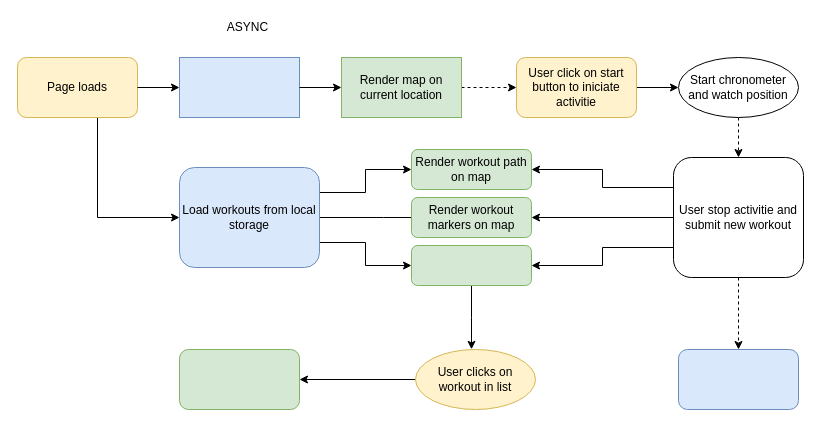
Some shapes in this 821 by 427 pixel diagram are drawn without their labels. The shapes that lost their labels are listed below. From the top down, each one's centre as x and y in pixels, then its label:
point (239, 87): Get current location coordinates
point (471, 265): Render workout in list
point (239, 379): Move map to workout location
point (738, 379): Storage workouts in local storage
